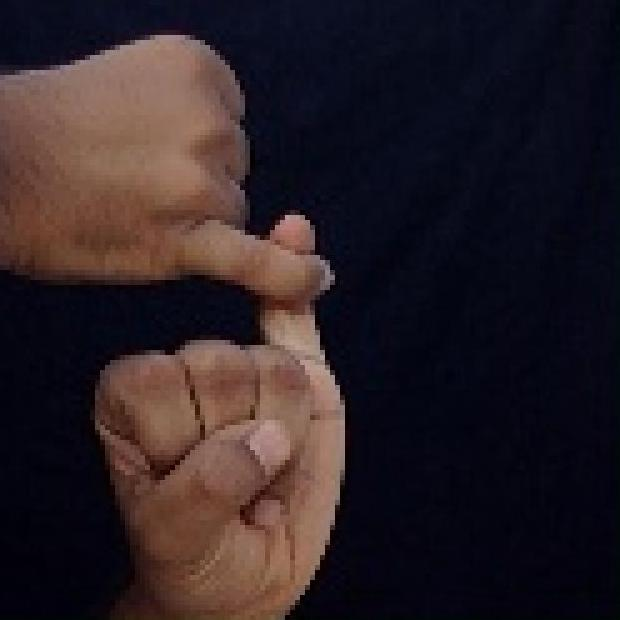R: (3, 18, 402, 620)
